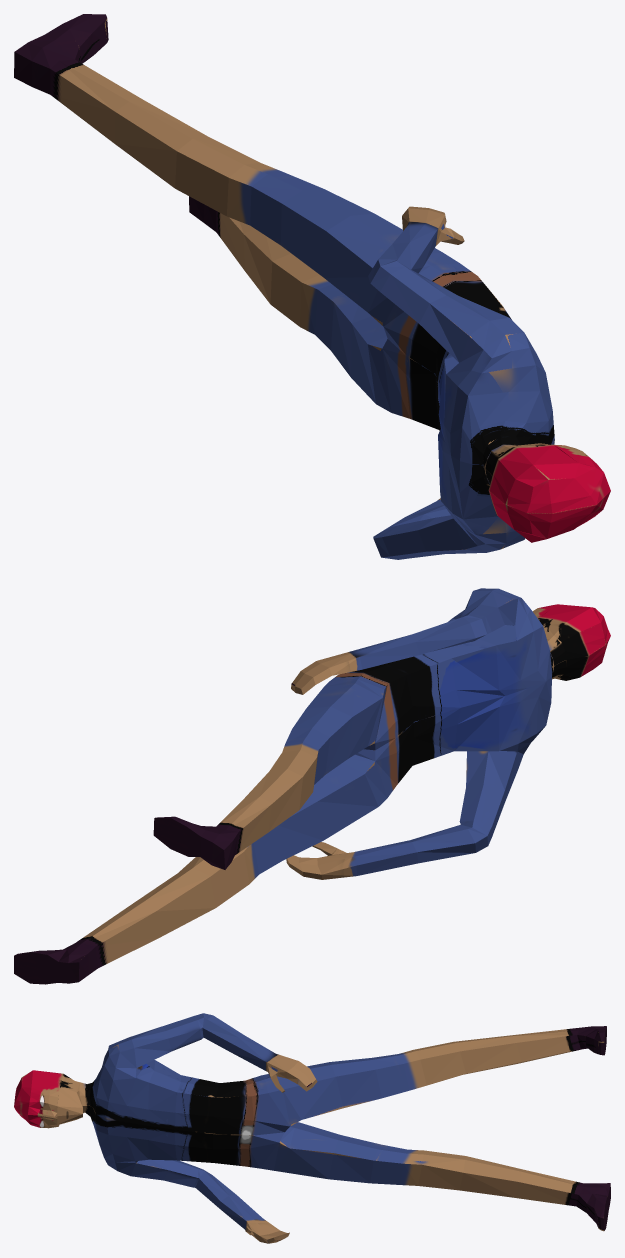
Rendered from mirrorman_000013.obj.
3 views of the same model, one above another, from view 1: azimuth 30°, elevation 25°; view 2: azimuth 150°, elevation 25°; view 3: azimuth 270°, elevation 25° (orthographic). The views are drawn at different scales.
Visible parts, largest first — view 1: mirrorman_Cube.001_Material.001; view 2: mirrorman_Cube.001_Material.001; view 3: mirrorman_Cube.001_Material.001.
Boxes of the visible parts, bbox=[...] form: mirrorman_Cube.001_Material.001: bbox=[14, 14, 610, 559]; mirrorman_Cube.001_Material.001: bbox=[14, 588, 610, 984]; mirrorman_Cube.001_Material.001: bbox=[14, 1013, 610, 1243].
Size of the model in its own units: 0.5649 by 0.6405 by 1.87.
1 material, 1 textured.
